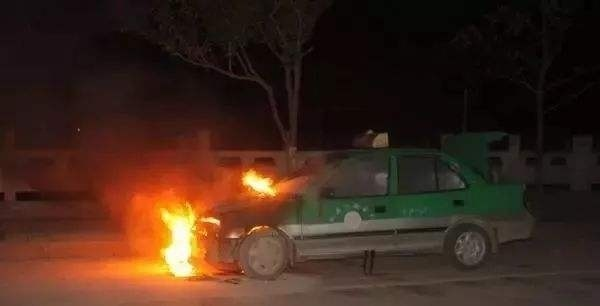fire: (152, 200, 213, 277), (240, 165, 278, 198)
